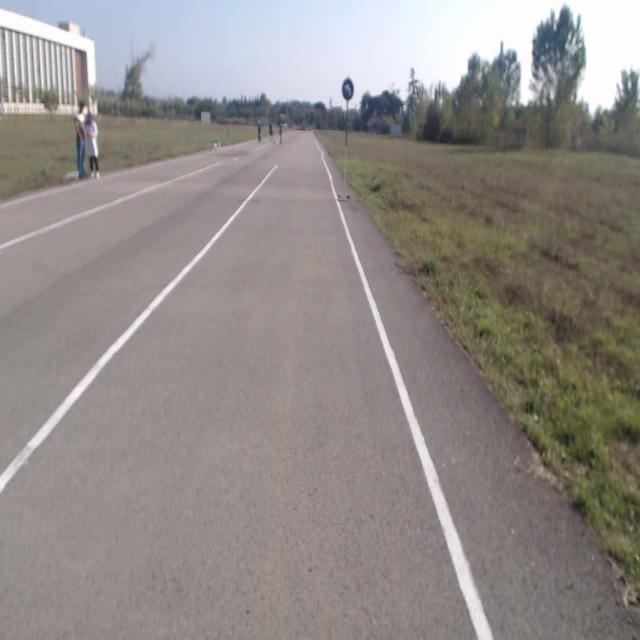sol: (342, 78, 353, 100)
